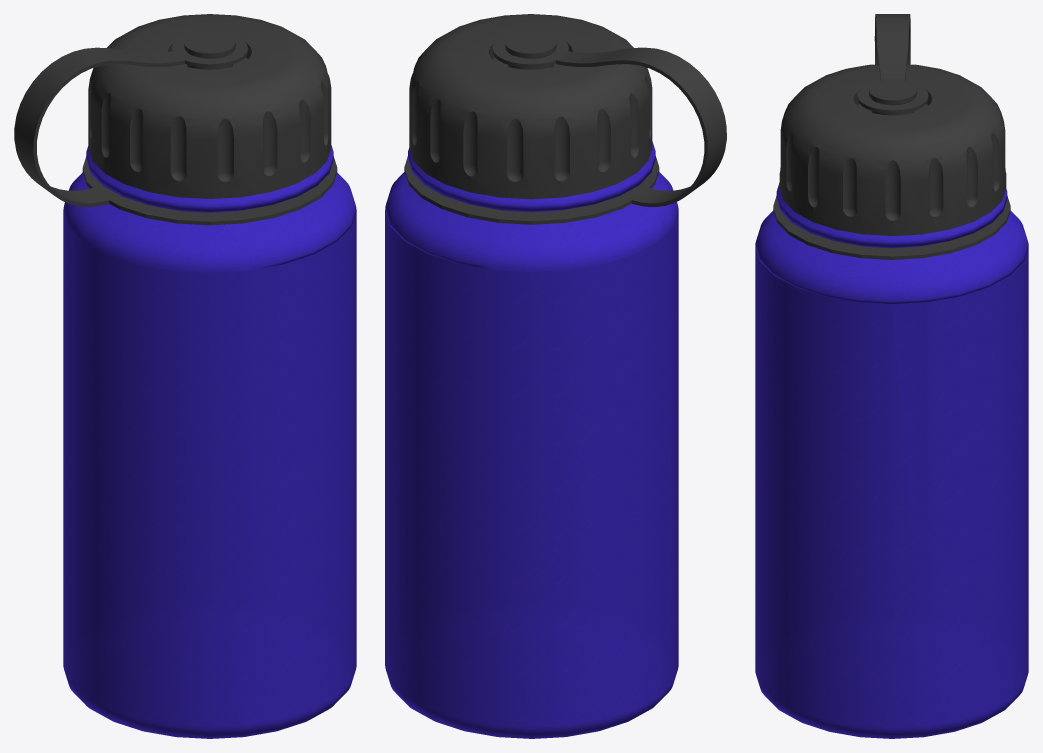
File: WaterBottle.dae
3 renders of one model, left to right at view 1: azimuth 30°, elevation 25°; view 2: azimuth 150°, elevation 25°; view 3: azimuth 270°, elevation 25°, orthographic. The views are drawn at different scales.
Visible parts, largest first — view 1: group_0 (×2), group_1 (×2), group_2; view 2: group_0 (×2), group_1 (×2), group_2; view 3: group_0 (×2), group_1 (×2), group_2.
Boxes of the visible parts, x1=… form: group_0 (×2): x1=63, y1=145, x2=356, y2=738; group_1 (×2): x1=88, y1=14, x2=331, y2=198; group_2: x1=14, y1=32, x2=337, y2=225; group_0 (×2): x1=385, y1=141, x2=678, y2=738; group_1 (×2): x1=409, y1=14, x2=652, y2=199; group_2: x1=404, y1=32, x2=726, y2=224; group_0 (×2): x1=755, y1=182, x2=1028, y2=738; group_1 (×2): x1=779, y1=64, x2=1006, y2=235; group_2: x1=773, y1=14, x2=1010, y2=259.
Size of the model in its own units: 168 by 136 by 338.
Materials: 2 (1 with a texture image).
